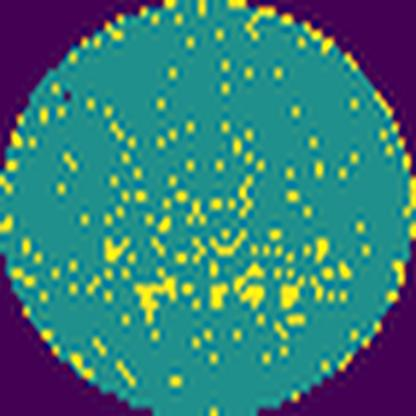Loc: (134, 275, 178, 325), (234, 266, 271, 312), (278, 285, 304, 313)
